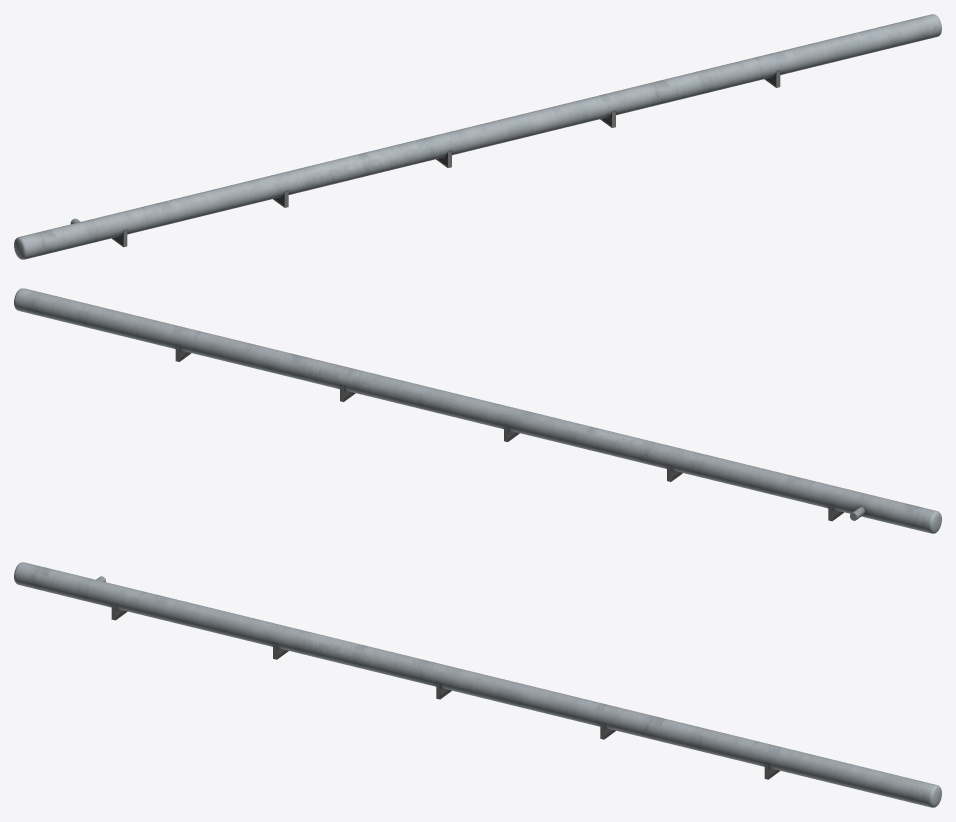
File: HPReservoir-v1.glb
3 renders of one model, top to bottom at view 1: azimuth 30°, elevation 25°; view 2: azimuth 150°, elevation 25°; view 3: azimuth 330°, elevation 25°, orthographic.
Visible parts, largest first — view 1: HPReservoir; view 2: HPReservoir; view 3: HPReservoir.
Part boxes in pixels (<box>): HPReservoir: <box>14,14,941,259</box>; HPReservoir: <box>14,288,941,533</box>; HPReservoir: <box>14,562,941,807</box>.
Size of the model in its own units: 561 by 16.74 by 21.02.
1 material, 1 textured.
